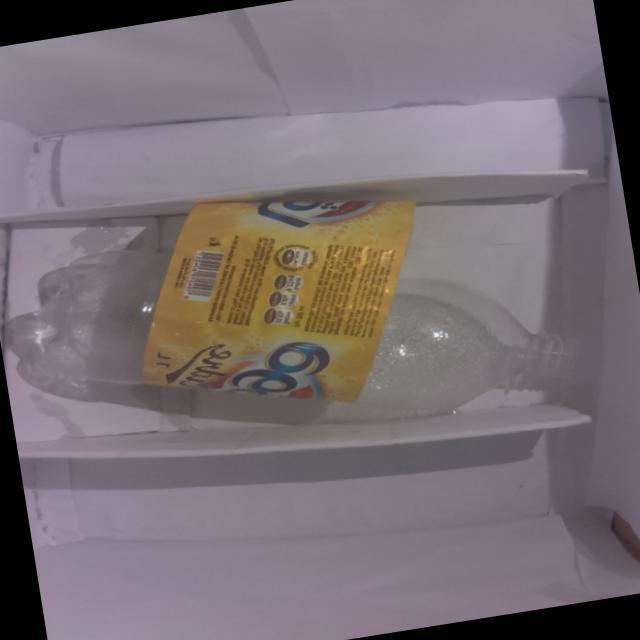good: (0, 175, 607, 494)
